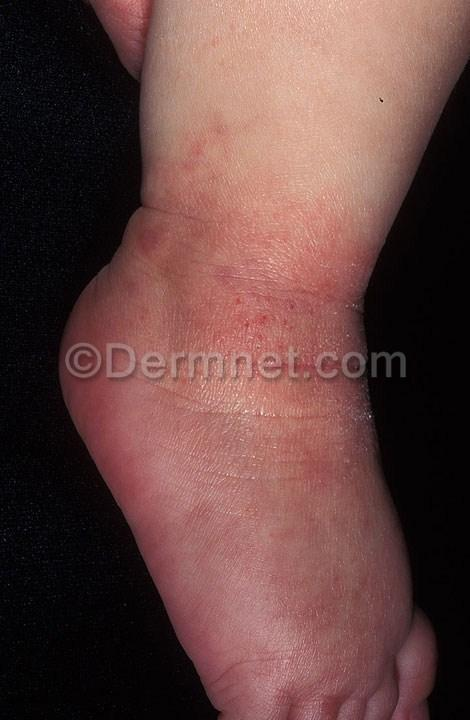eritema 1: (50, 175, 437, 719)
xerosis 1: (333, 360, 386, 468)
